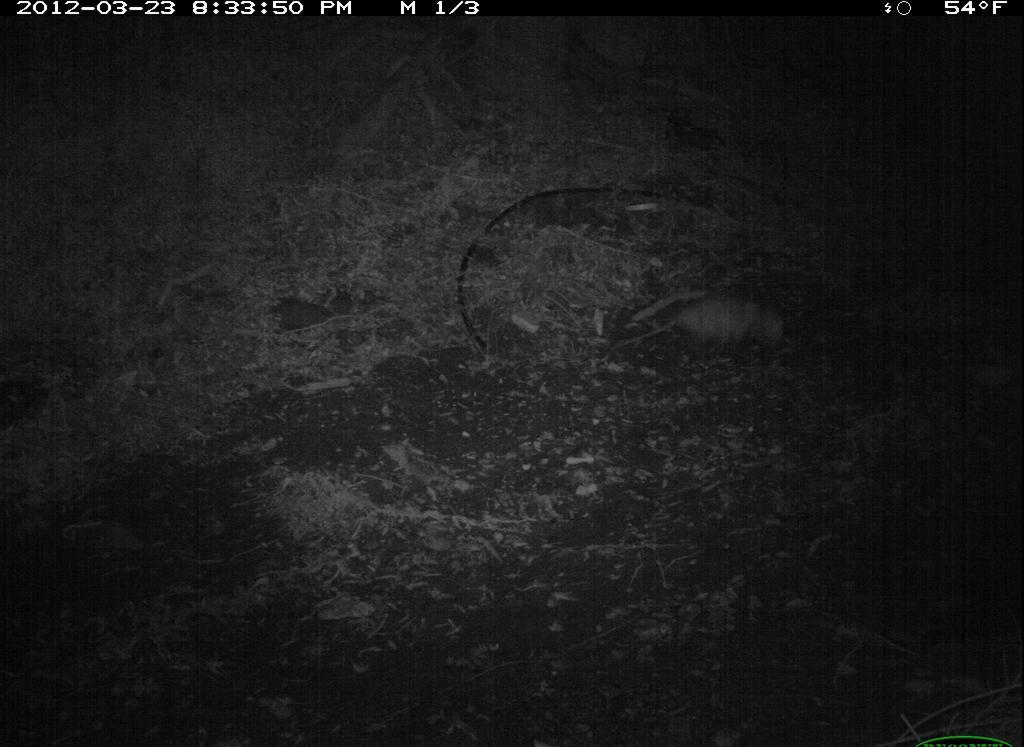opossum: (598, 282, 808, 373)
